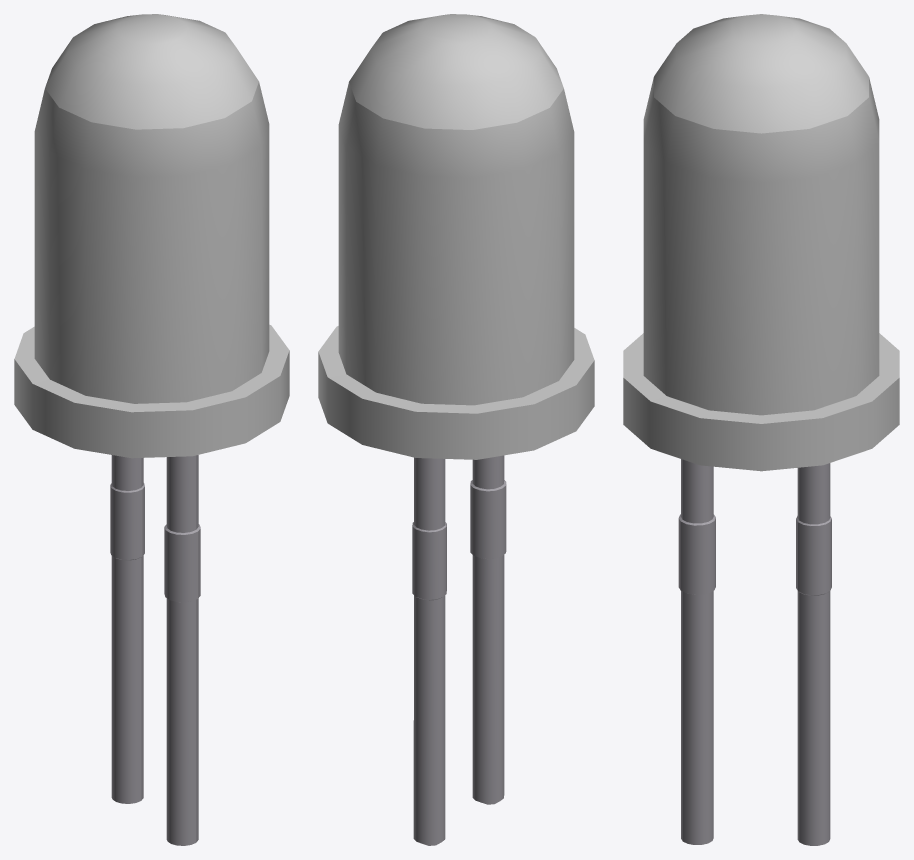
Rendered from Diode.fbx.
3 renders of one model, left to right at view 1: azimuth 30°, elevation 25°; view 2: azimuth 150°, elevation 25°; view 3: azimuth 270°, elevation 25°, orthographic. The views are drawn at different scales.
Visible parts, largest first — view 1: diode; view 2: diode; view 3: diode.
Part boxes in pixels (<box>): diode: <box>14,14,289,845</box>; diode: <box>318,14,594,845</box>; diode: <box>623,14,899,845</box>.
Size of the model in its own units: 0.3104 by 0.9791 by 0.3026.
